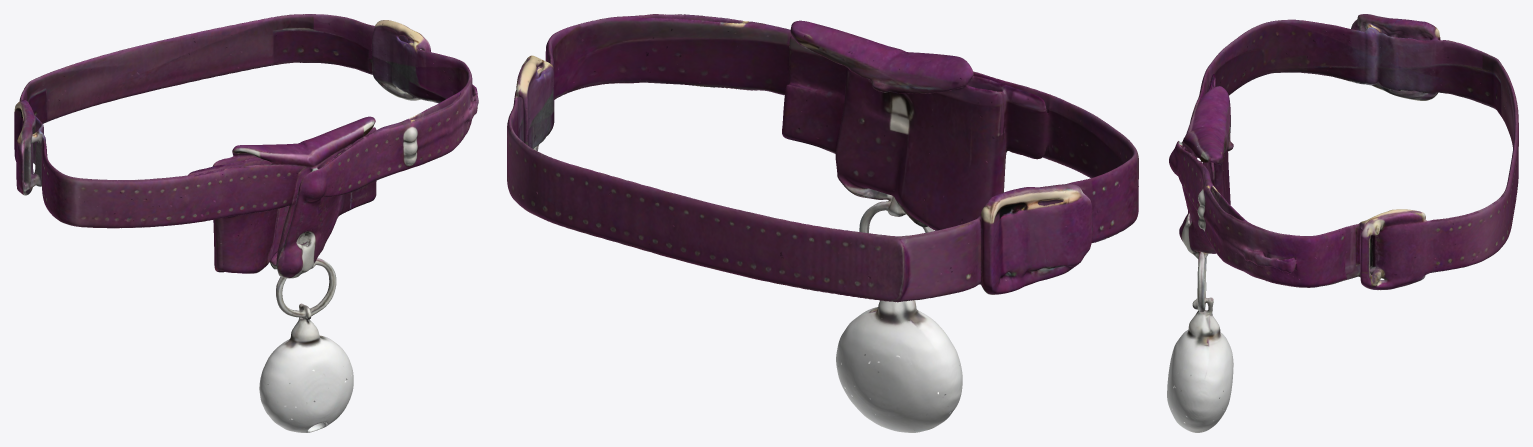
Rendered from Purple_Bow_Collar_.glb.
3 views of the same model, side by side, from view 1: azimuth 30°, elevation 25°; view 2: azimuth 150°, elevation 25°; view 3: azimuth 270°, elevation 25° (orthographic). The views are drawn at different scales.
Bounding box in the file's own units: 2.01 × 1.32 × 1.35.
1 material, 1 textured.
